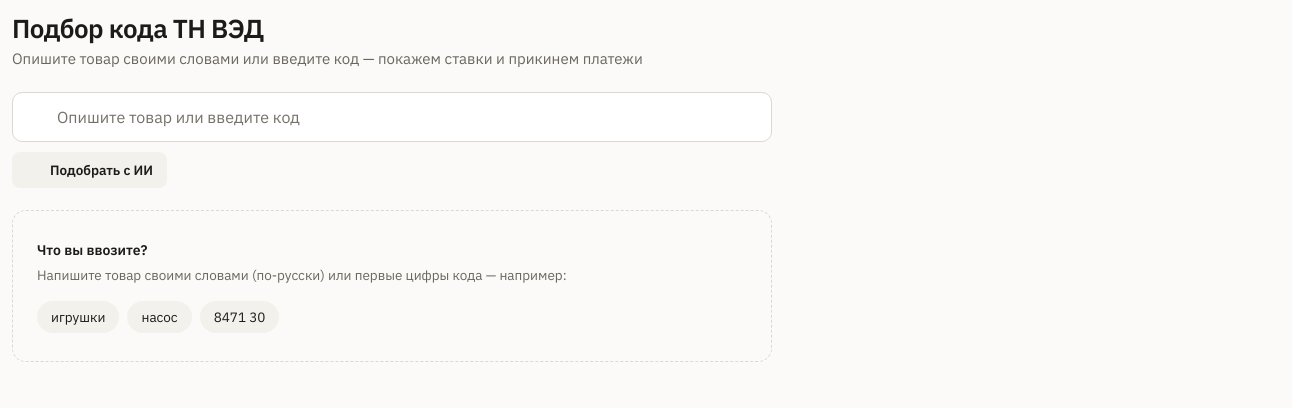
Test case: ClientTnvedView › ввод «8471 30» — поиск по коду с leafOnly через 400 мс, без подбора по описанию
Type "8471 30" into the search field with placeholder "Опишите товар или введите код".
click(406, 117); type("8471 30")  # box [57, 105, 755, 129]
Wait 400 ms
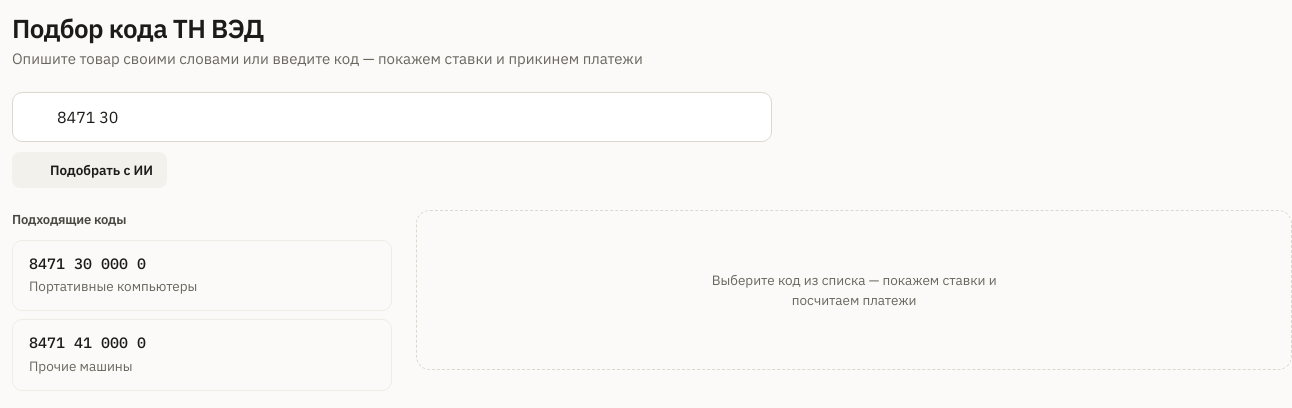
Expected: the text "8471 30 000 0" is shown, [29, 254, 146, 273]
Expected: the text "Портативные компьютеры" is shown, [29, 277, 197, 295]
